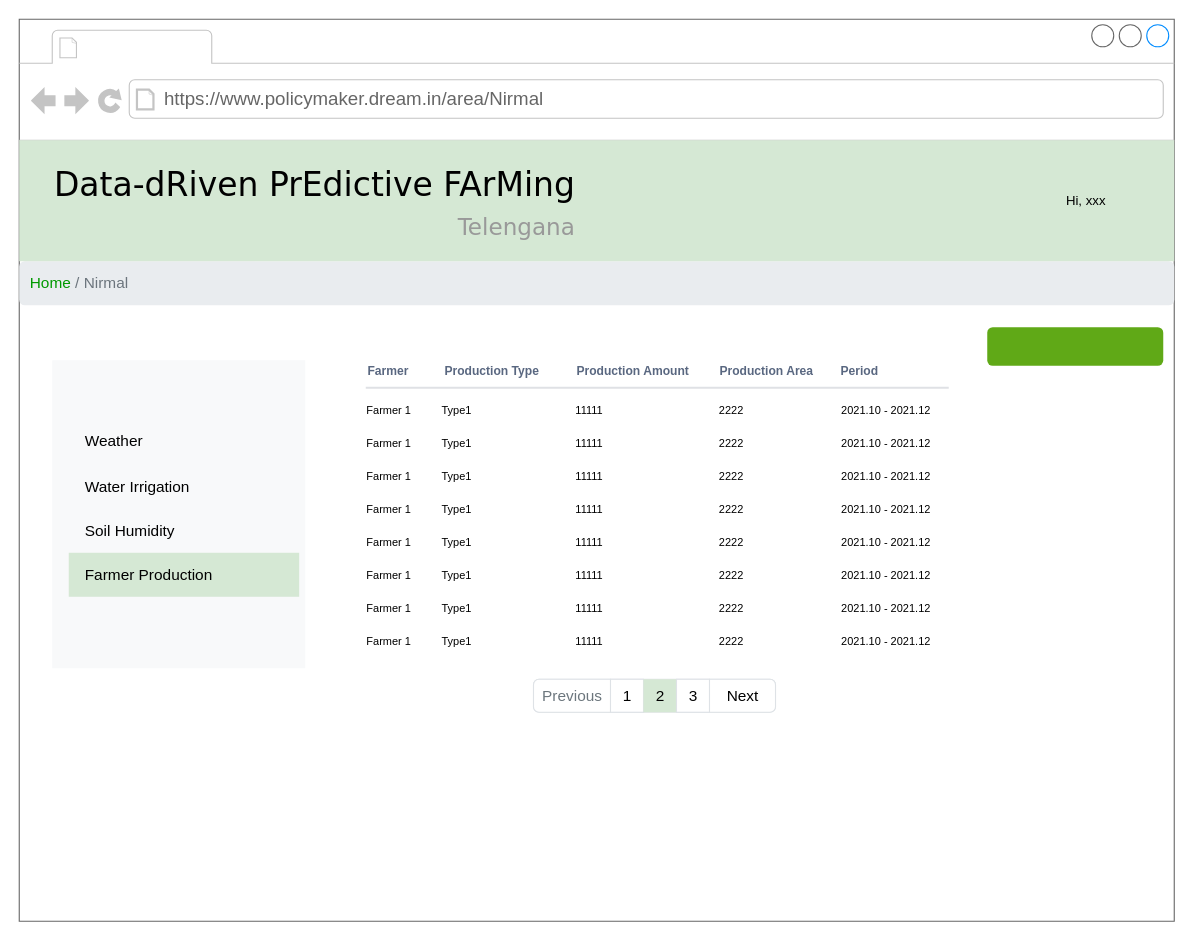
Some shapes in this 1192 by 939 pixel diagram are drawn without their labels. Here are the shapes that lost their labels. From the top down, the centre of each, then its label:
(145,46): Nirmal
(1075,346): Update Performance
